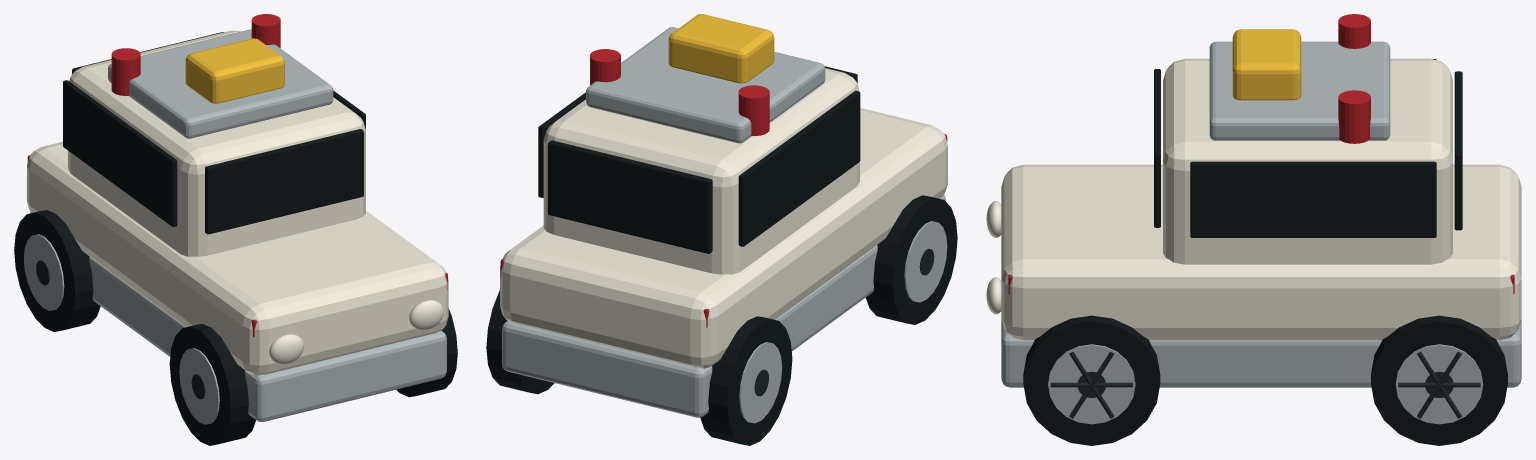
The model's file is best.glb.
3 renders of one model, left to right at view 1: azimuth 30°, elevation 25°; view 2: azimuth 150°, elevation 25°; view 3: azimuth 270°, elevation 25°, orthographic. The views are drawn at different scales.
Parts seen in each view (by area): view 1: Cabin, Rear window, Car chassis, Equipment, Red side stripe, Hub; view 2: Cabin, Rear window, Car chassis, Equipment, Red side stripe, Hub; view 3: Cabin, Rear window, Car chassis, Equipment, Hub, Red side stripe.
Boxes of the visible parts, x1,y1,x2,y2 form: Cabin: (27,30,448,375); Rear window: (14,32,457,445); Car chassis: (23,29,446,424); Equipment: (185,38,284,103); Red side stripe: (27,14,447,337); Hub: (36,260,205,399); Cabin: (500,68,947,368); Rear window: (486,66,957,445); Car chassis: (502,27,947,423); Equipment: (668,14,774,83); Red side stripe: (500,49,947,327); Hub: (754,248,934,396); Cabin: (986,58,1521,340); Rear window: (1023,59,1507,445); Car chassis: (1001,41,1521,424); Equipment: (1232,29,1301,100); Hub: (1050,351,1480,418); Red side stripe: (1008,14,1514,294).
Bounding box in the file's own units: 0.5486 × 0.68 × 0.9775.
